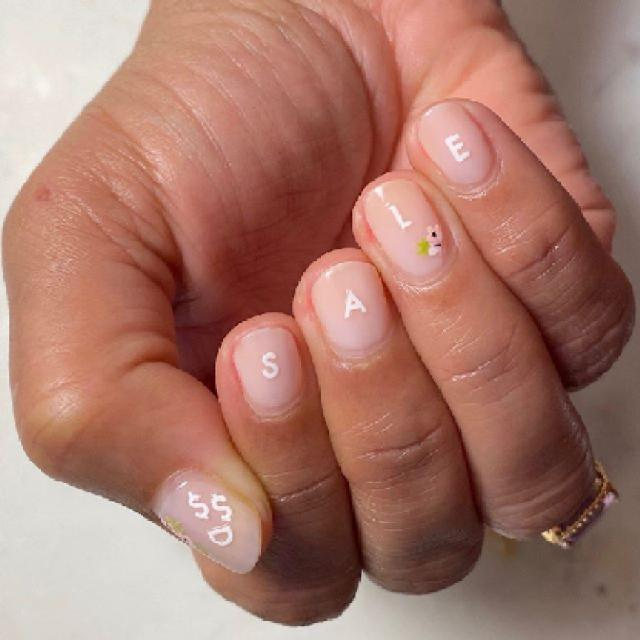Nail: (152, 470, 261, 572), (360, 176, 452, 279), (311, 260, 390, 359), (232, 324, 305, 419), (420, 101, 495, 189)
